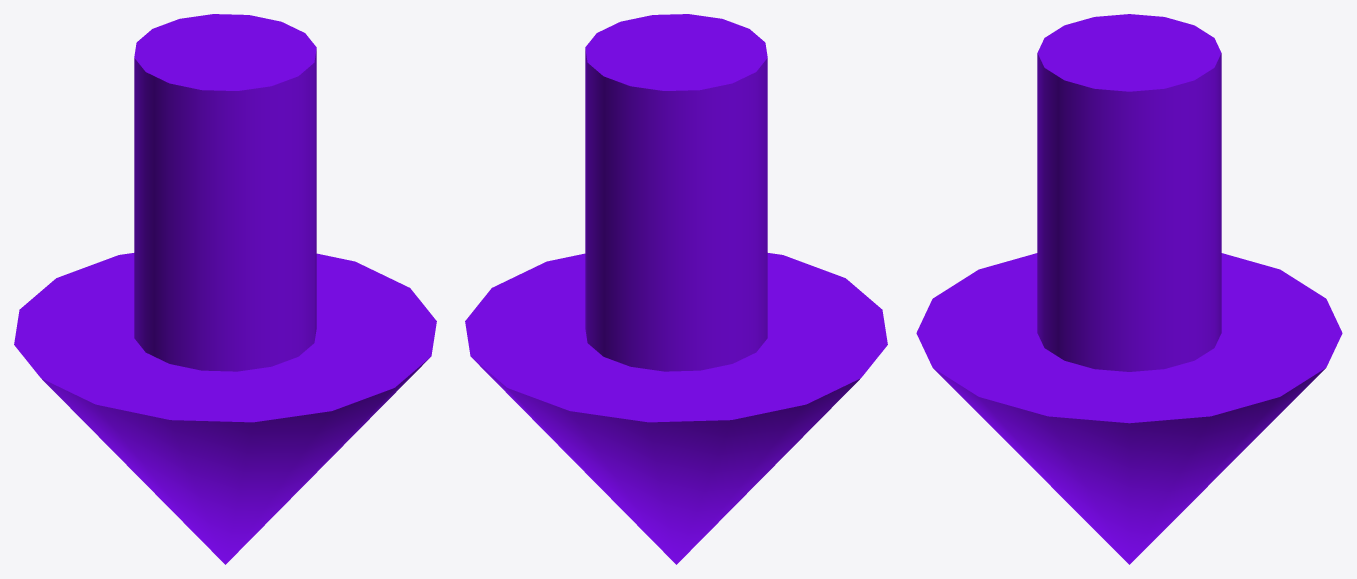
File: Pointer.fbx
The picture shows the model from 3 angles, left to right: view 1: azimuth 30°, elevation 25°; view 2: azimuth 150°, elevation 25°; view 3: azimuth 270°, elevation 25°; orthographic projection.
Parts seen in each view (by area): view 1: SelectedPointer; view 2: SelectedPointer; view 3: SelectedPointer.
Part boxes in pixels (x1,y1,x2,y2): SelectedPointer: (14,14,436,564); SelectedPointer: (465,14,887,564); SelectedPointer: (916,14,1342,564).
Size of the model in its own units: 0.1 by 0.1326 by 0.1.
